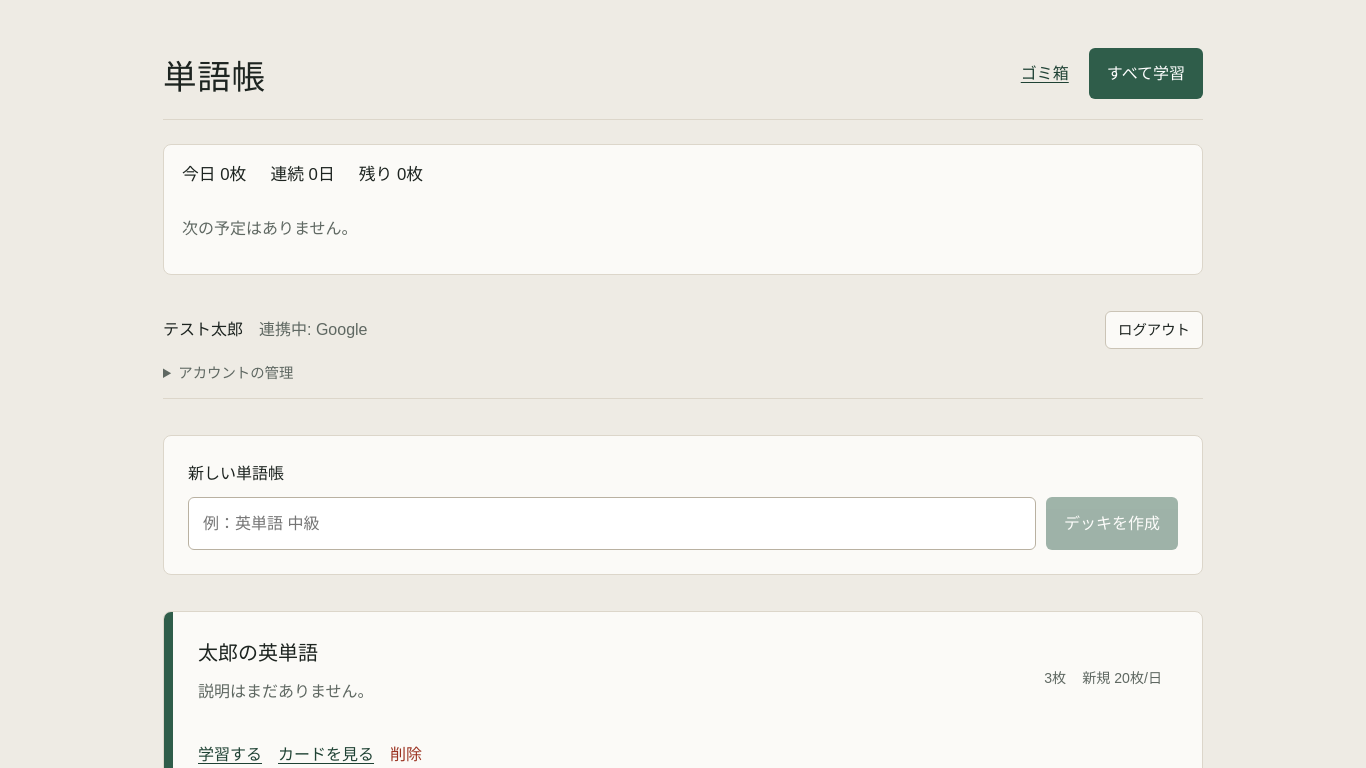
Test: 画面の移り変わり › ログアウトしたら前の利用者の単語帳をキャッシュに残さない
Expected: the link "太郎の英単語" is shown, [198,642,318,664]
Click the button "ログアウト": click(1154, 330) [1105,311,1203,349]
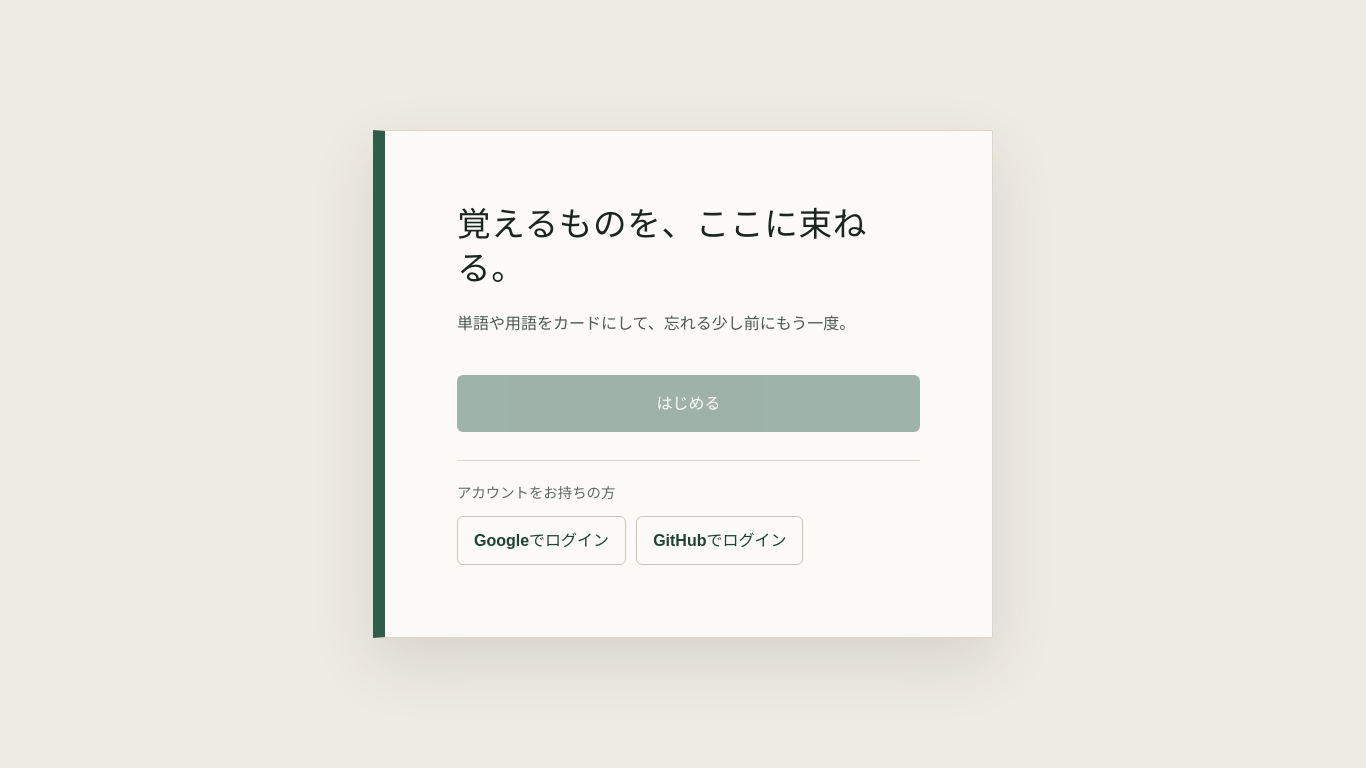
Now the button "はじめる" is shown, box [457,375,920,432]
